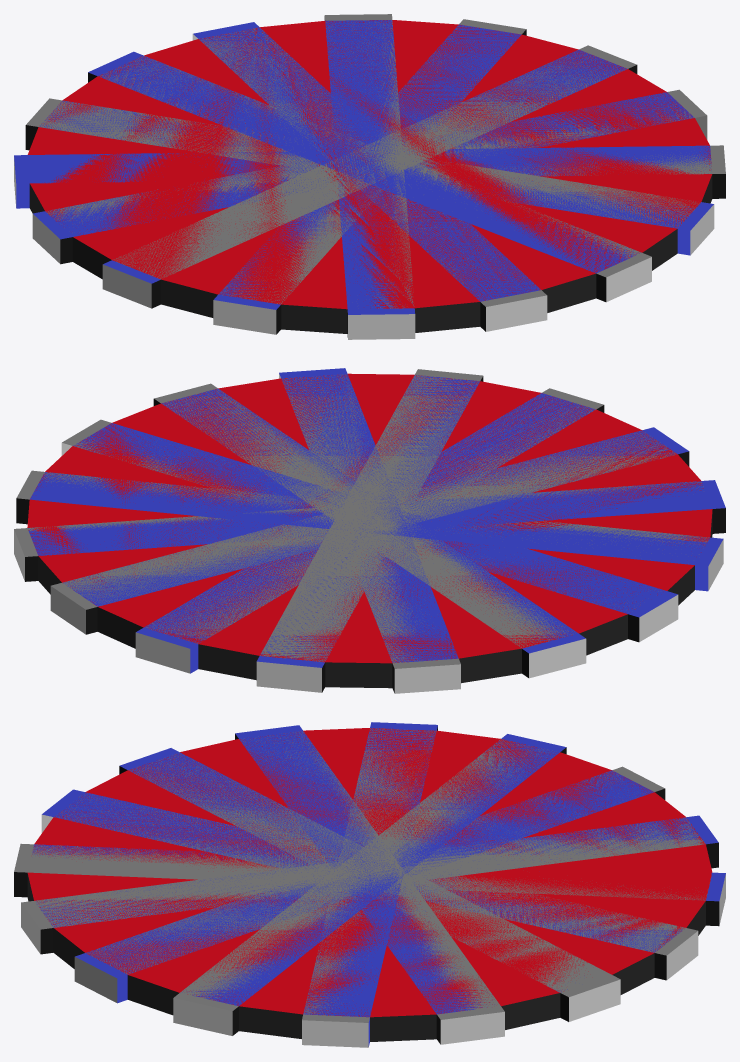
The model's file is CarStandVer3.fbx.
3 views of the same model, one above another, from view 1: azimuth 30°, elevation 25°; view 2: azimuth 150°, elevation 25°; view 3: azimuth 270°, elevation 25° (orthographic).
Visible parts, largest first — view 1: Cylinder; view 2: Cylinder; view 3: Cylinder.
Boxes of the visible parts, left/top/right/bottom form: Cylinder: left=14, top=14, right=725, bottom=339; Cylinder: left=14, top=368, right=725, bottom=693; Cylinder: left=14, top=722, right=725, bottom=1047.
Size of the model in its own units: 1010 by 38.86 by 1010.
